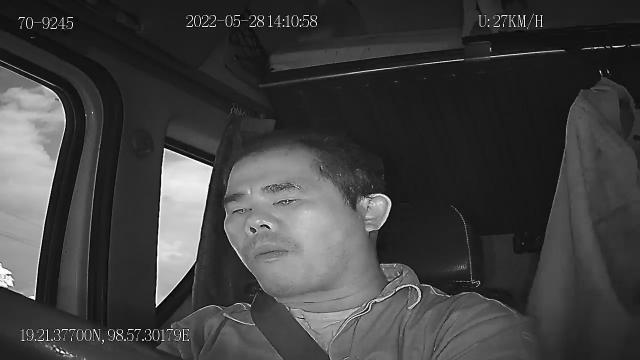SafeDriving: (266, 187, 308, 212)
Seatbelt: (238, 274, 340, 360)
